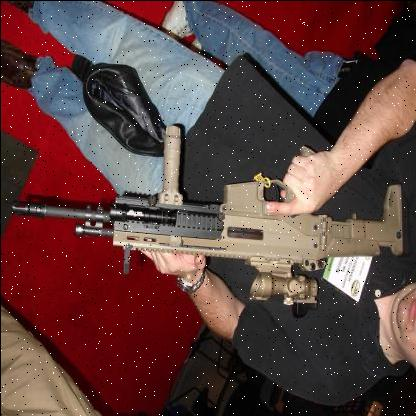rifle: (4, 111, 402, 306)
